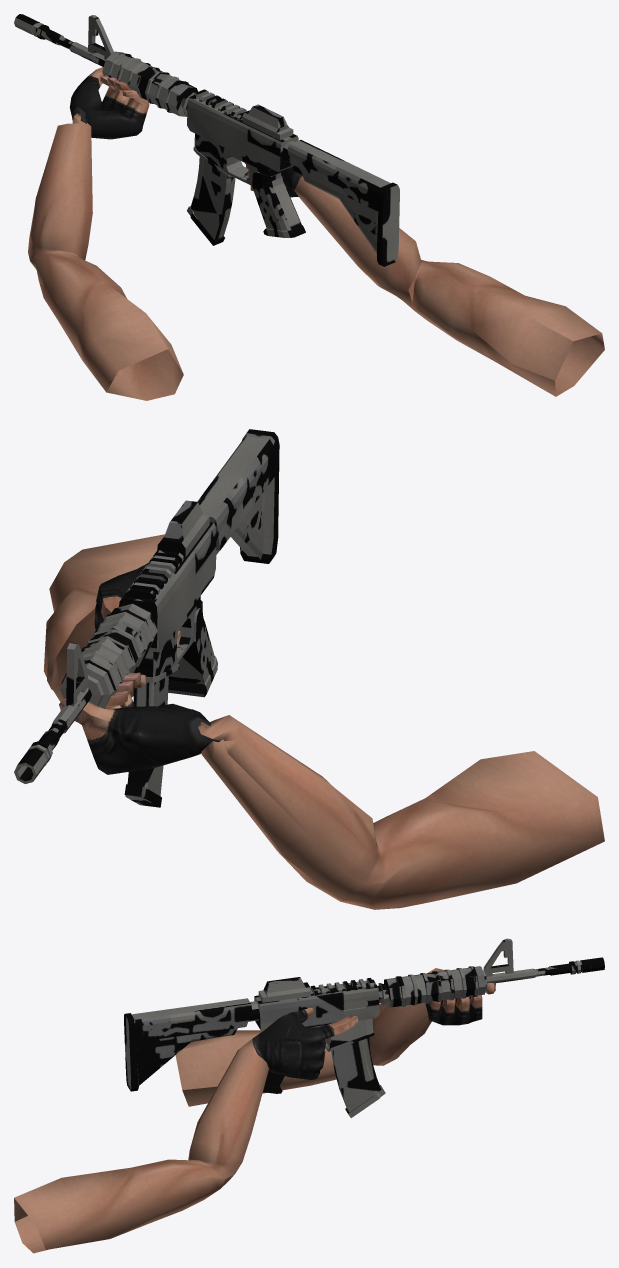
Rendered from gun_rifle.glb.
3 views of the same model, one above another, from view 1: azimuth 30°, elevation 25°; view 2: azimuth 150°, elevation 25°; view 3: azimuth 270°, elevation 25° (orthographic). The views are drawn at different scales.
Visible parts, largest first — view 1: body_ARMS, body_QUATP, mag_QUATP; view 2: body_ARMS, body_QUATP, mag_QUATP; view 3: body_ARMS, body_QUATP, mag_QUATP.
Boxes of the visible parts, x1,y1,x2,y2 form: body_ARMS: (28,67,604,400); body_QUATP: (14,14,399,266); mag_QUATP: (187,156,235,245); body_ARMS: (43,534,604,909); body_QUATP: (14,429,279,783); mag_QUATP: (124,675,168,807); body_ARMS: (14,968,495,1253); body_QUATP: (124,938,604,1093); mag_QUATP: (331,1038,385,1117).
Size of the model in its own units: 77.63 by 41.62 by 103.
Materials: 2 (2 with a texture image).
